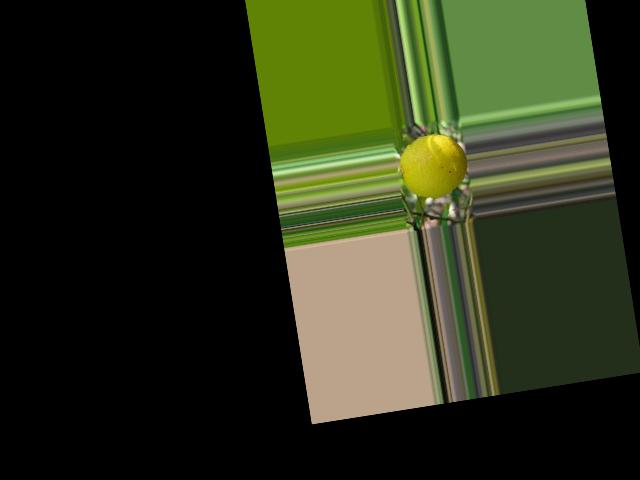lemon: (396, 125, 473, 206)
